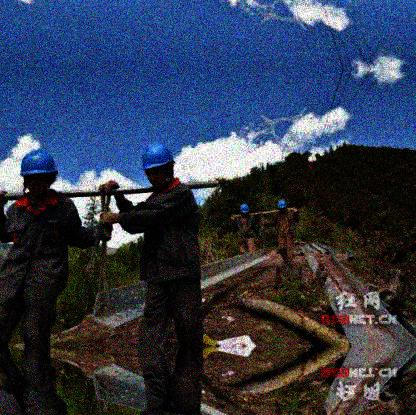helmet: (18, 149, 61, 197), (139, 144, 178, 192), (275, 199, 289, 212)
